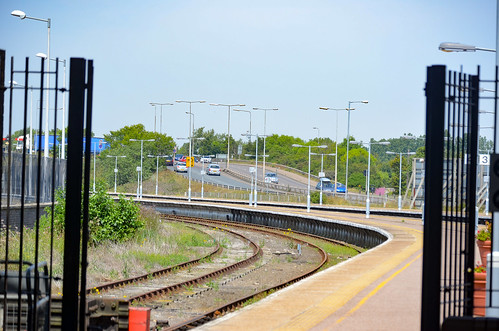car: (261, 172, 282, 188), (205, 162, 223, 178)
light pole: (174, 95, 205, 193), (319, 103, 353, 190), (288, 140, 329, 211), (210, 98, 244, 173), (344, 97, 368, 194), (248, 105, 280, 176), (149, 97, 173, 186)
sky: (89, 1, 422, 132)
train track: (83, 219, 326, 331)
